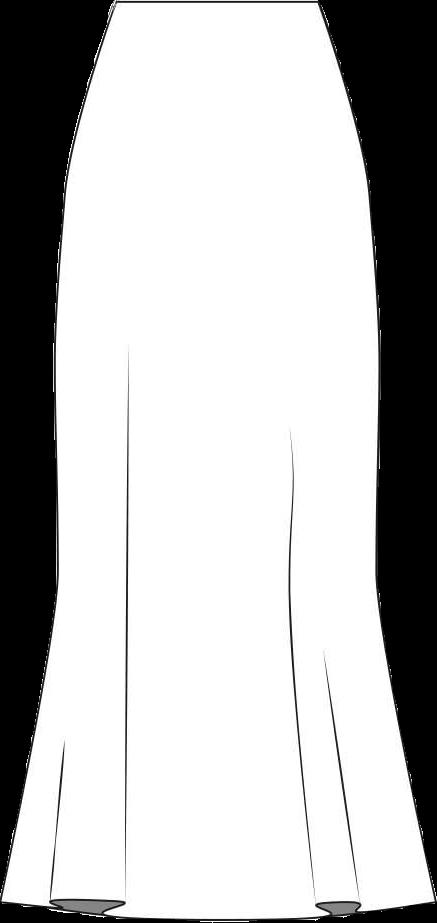Hemline: (0, 889, 436, 921)
Waistline: (111, 0, 320, 10)
